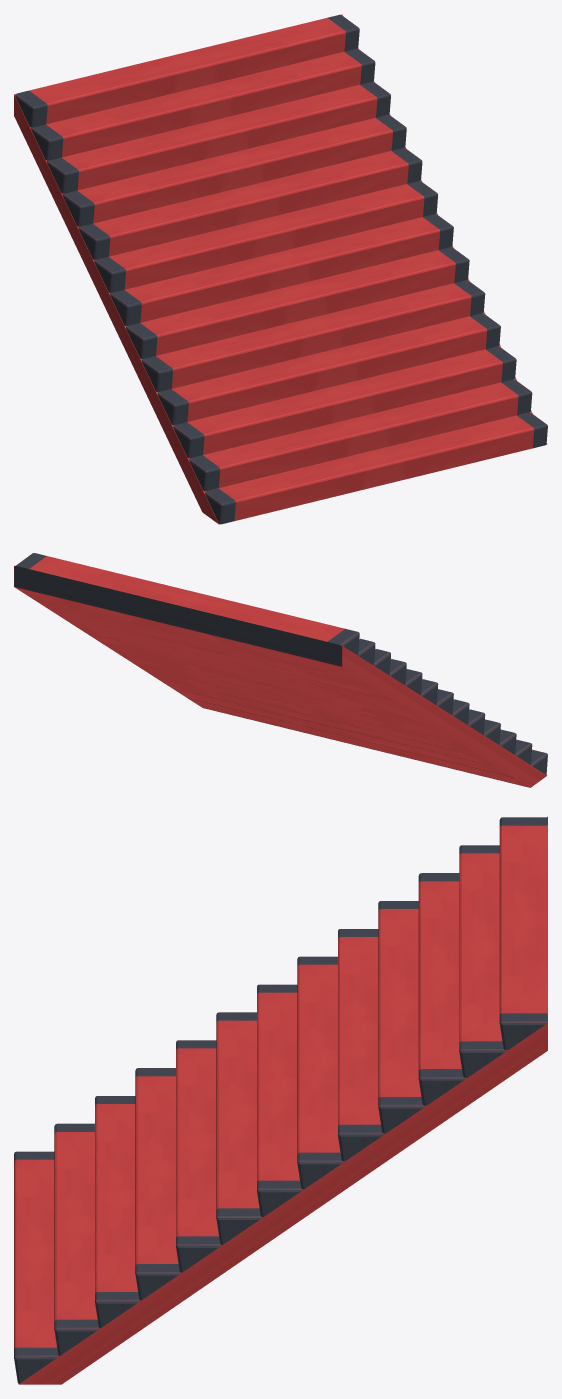
File: sm_building_stairs04_02.fbx
3 renders of one model, top to bottom at view 1: azimuth 30°, elevation 25°; view 2: azimuth 150°, elevation 25°; view 3: azimuth 270°, elevation 25°, orthographic. The views are drawn at different scales.
Parts seen in each view (by area): view 1: ladder; view 2: ladder; view 3: ladder.
Part boxes in pixels (x1=…): ladder: x1=14, y1=14, x2=547, y2=524; ladder: x1=14, y1=553, x2=547, y2=787; ladder: x1=14, y1=816, x2=547, y2=1384.
Bounding box in the file's own units: 459 × 375 × 501.
Materials: 1 (1 with a texture image).
